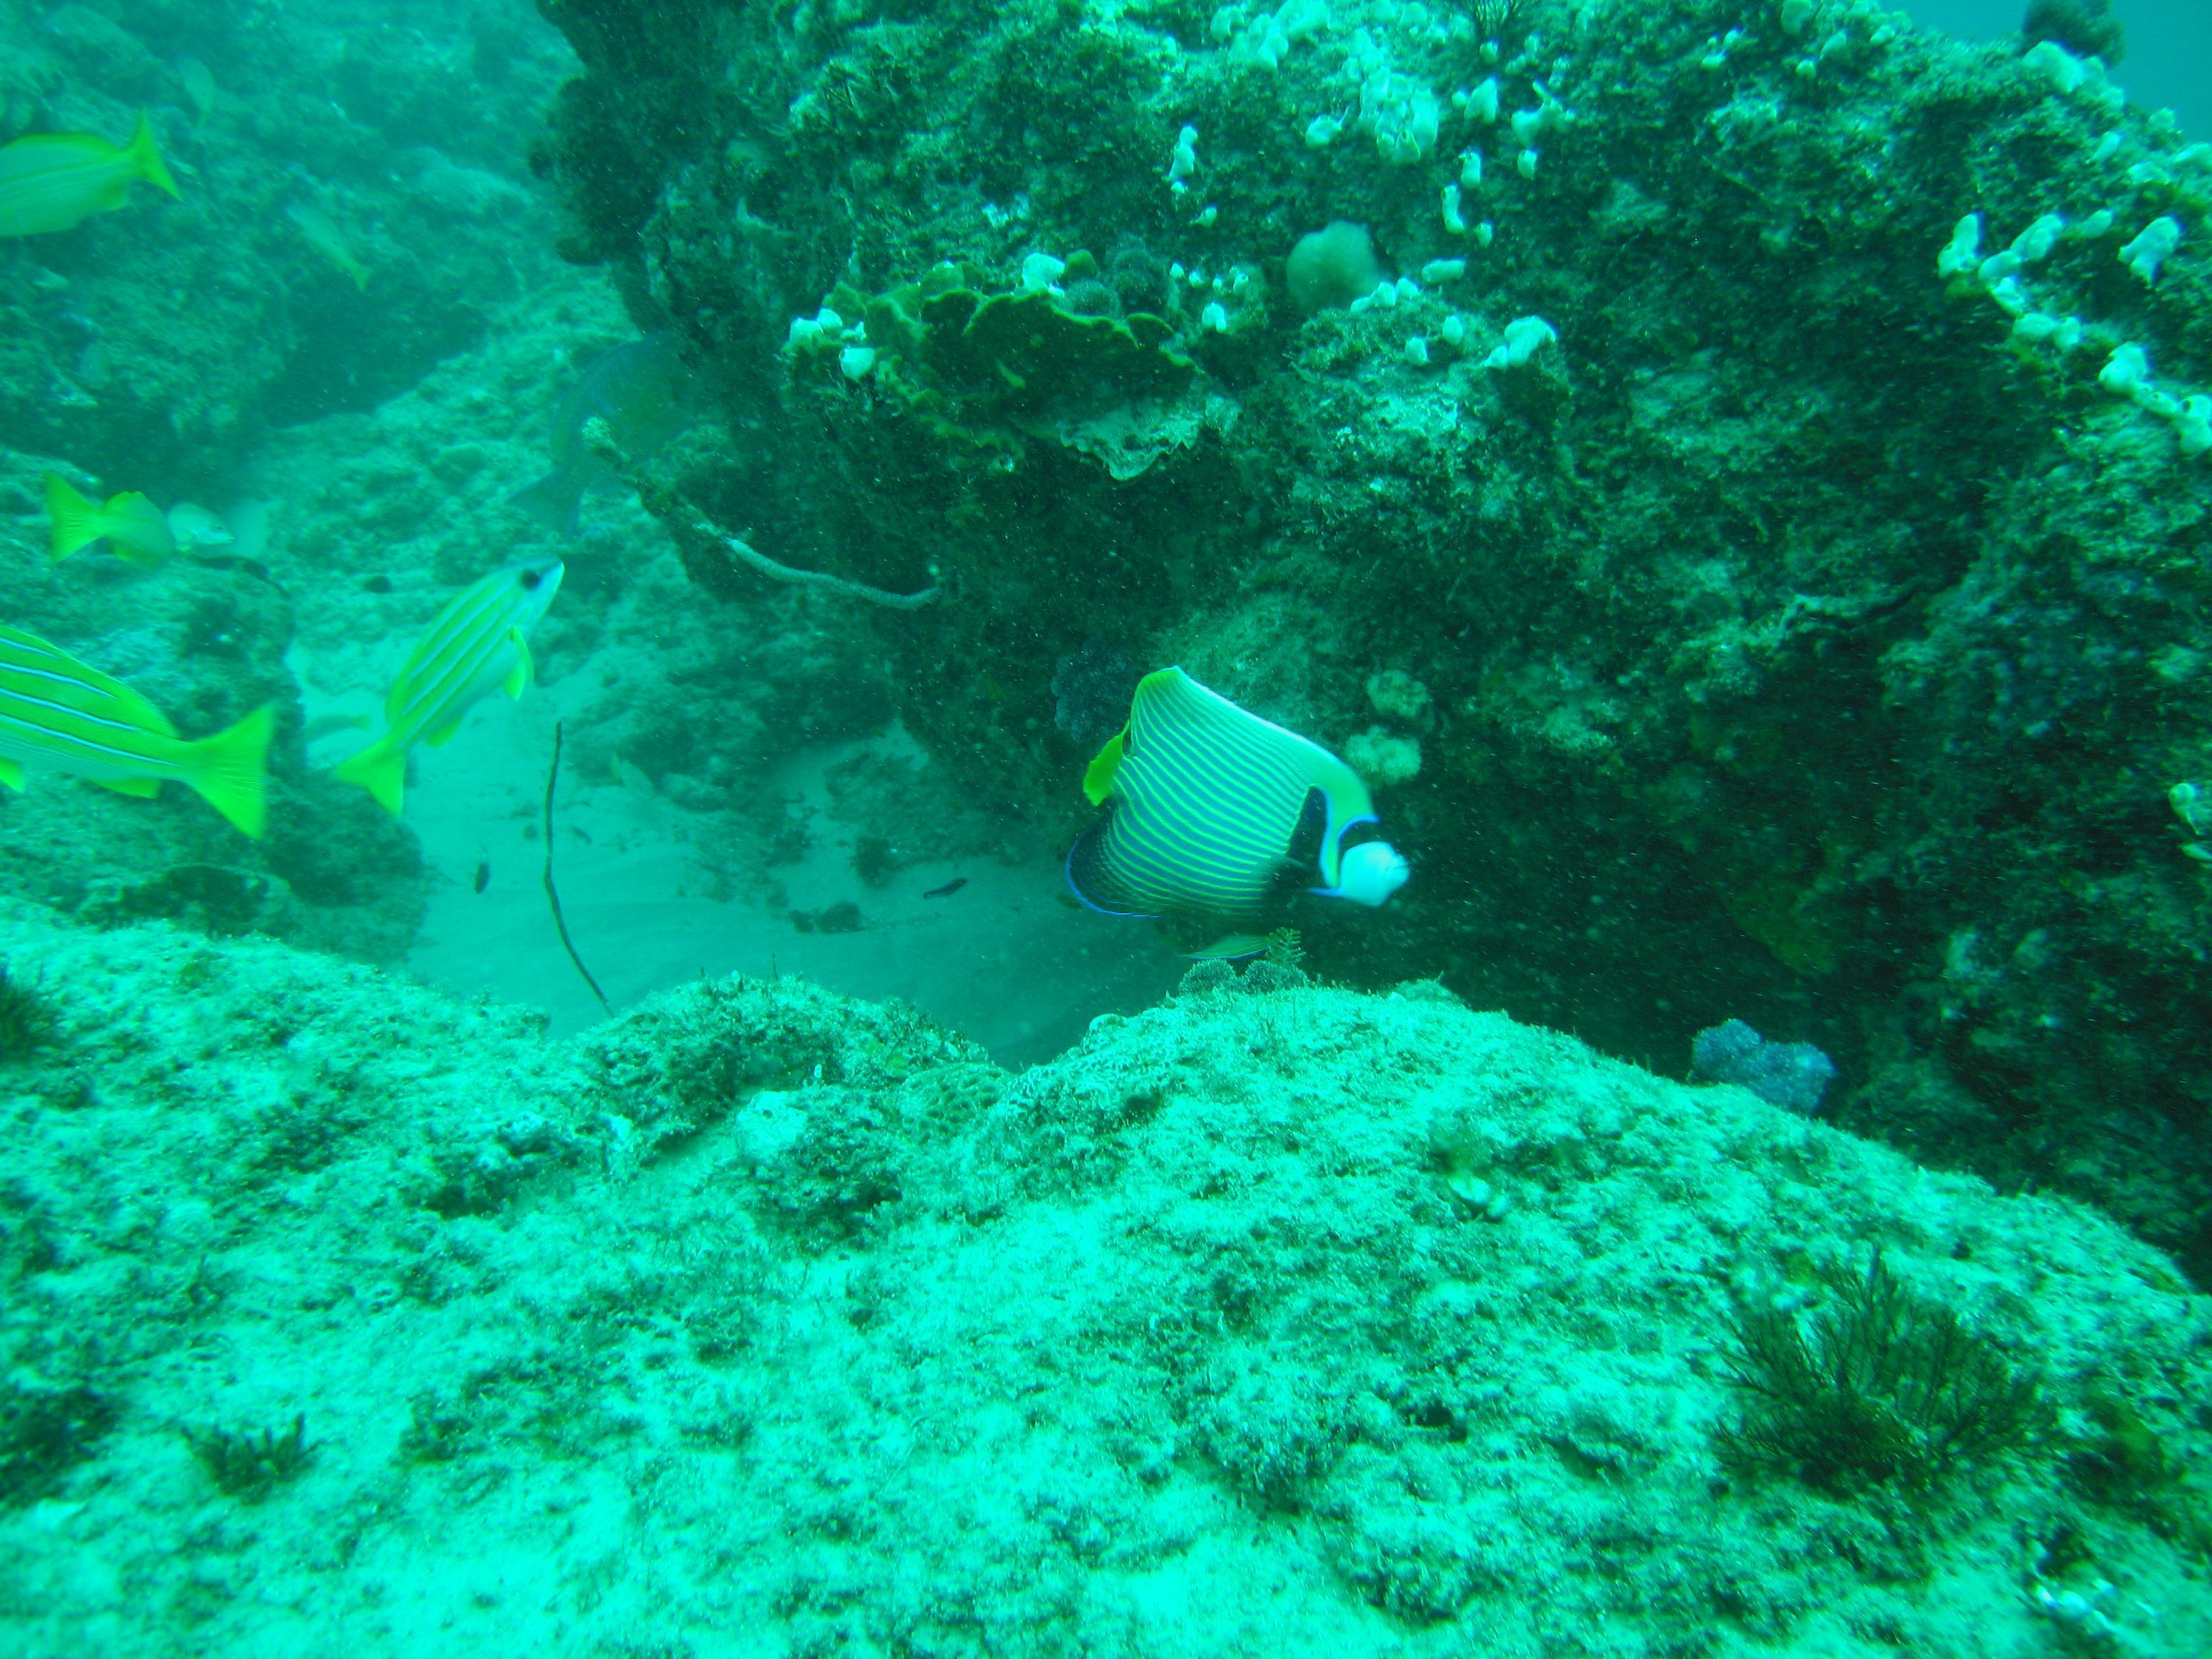Fish: (1028, 627, 1451, 999)
